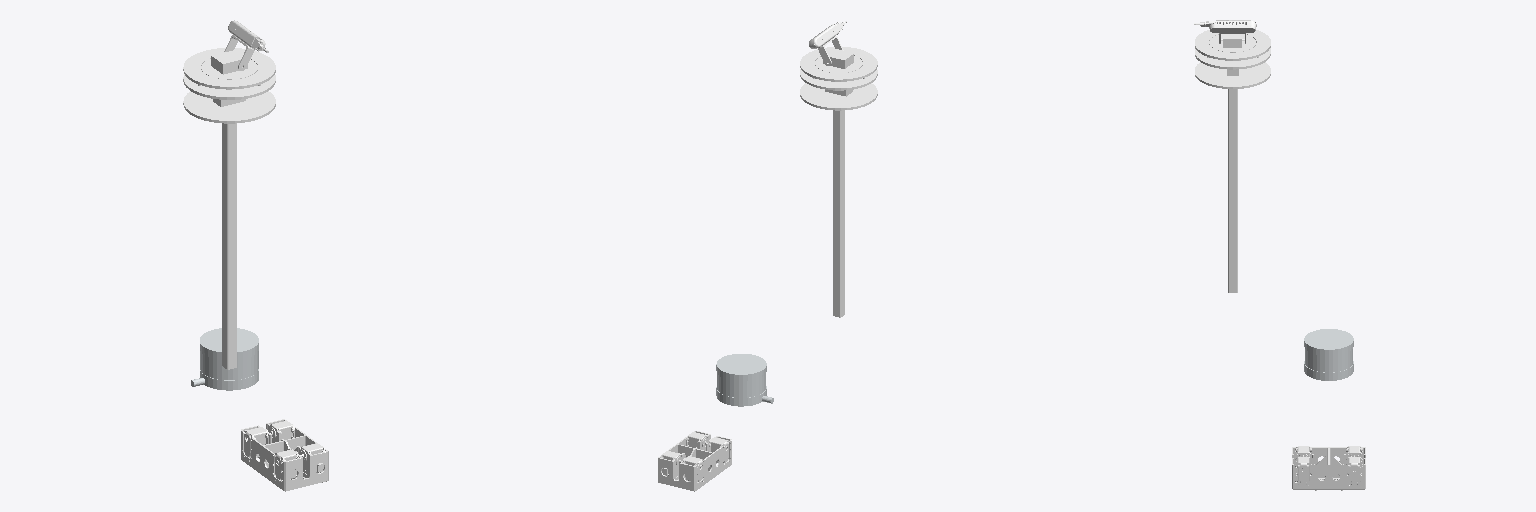
robot.urdf — mobile_platform_controllable_gimbal:
<?xml version="1.0" encoding="utf-8"?>
<!-- This URDF was automatically created by SolidWorks to URDF Exporter! Originally created by [author] ([email redacted])
     Commit Version: 1.6.0-1-g15f4949  Build Version: 1.6.7594.29634
     For more information, please see http://wiki.ros.org/sw_urdf_exporter -->
<robot
  name="mobile_platform_controllable_gimbal">
  <material name="black">
    <color rgba="0.0 0.0 0.0 1.0"/>
  </material>
  <material name="blue">
    <color rgba="0.0 0.0 0.8 1.0"/>
  </material>
  <material name="green">
    <color rgba="0.0 0.8 0.0 1.0"/>
  </material>
  <material name="grey">
    <color rgba="0.2 0.2 0.2 1.0"/>
  </material>
  <material name="orange">
    <color rgba="1.0 0.423529411765 0.0392156862745 1.0"/>
  </material>
  <material name="brown">
    <color rgba="0.870588235294 0.811764705882 0.764705882353 1.0"/>
  </material>
  <material name="red">
    <color rgba="0.8 0.0 0.0 1.0"/>
  </material>
  <material name="white">
    <color rgba="1.0 1.0 1.0 1.0"/>
  </material>
  <material name="Beige">
    <color rgba="1.0 0.784 0.5765 1.0"/>
  </material>
  <link name="root">
    <inertial>
      <mass value="1"/>
      <inertia ixx="0.04" ixy="0.00" ixz="0.00" iyy="0.04" iyz="0.00" izz="0.02"/>
    </inertial>
  </link>
  <link name="mobile_link_1">
  </link>
  <link name="mobile_link_2">
  </link>
  <joint name="root_x_axis_joint" type="prismatic">
    <parent link="root"/>
    <child link="mobile_link_1"/>
    <axis xyz="1 0 0"/>
    <limit lower="-10" upper="10" velocity="0.50"/>
    <dynamics damping="10.0" friction="10"/>
  </joint>
  <joint name="root_y_axis_joint" type="prismatic">
    <parent link="mobile_link_1"/>
    <child link="mobile_link_2"/>
    <axis xyz="0 1 0"/>
    <limit lower="-10" upper="10" velocity="0.50"/>
    <dynamics damping="10.0" friction="10"/>
  </joint>
  <joint name="root_z_rotation_joint" type="continuous">
    <parent link="mobile_link_2"/>
    <child link="base_link"/>
    <axis xyz="0 0 1"/>
    <dynamics damping="10.0" friction="1"/>
  </joint>
  <link
    name="base_link">
    <inertial>
      <origin
        xyz="-0.0341950059245064 -0.000488202669057205 -0.023484876962622"
        rpy="0 0 0" />
      <mass
        value="40.9486107084908" />
      <inertia
        ixx="0.614175745536508"
        ixy="-0.00029161014956335"
        ixz="0.00349696614970323"
        iyy="0.585385929134616"
        iyz="0.00393630741003468"
        izz="1.14116882796746" />
    </inertial>
    <visual>
      <origin
        xyz="0 0 0"
        rpy="0 0 0" />
      <geometry>
        <mesh
          filename="xmate3_description/meshes/base_link.STL" />
      </geometry>
      <material
        name="">
        <color
          rgba="1 1 1 1" />
      </material>
    </visual>
    <collision>
      <origin
        xyz="0 0 0"
        rpy="0 0 0" />
      <geometry>
        <mesh
          filename="xmate3_description/meshes/base_link.STL" />
      </geometry>
    </collision>
  </link>
  <link
    name="velodyne">
    <inertial>
      <origin
        xyz="-0.000287261593383881 -1.71282553980455E-06 -0.00210508552484484"
        rpy="0 0 0" />
      <mass
        value="1.59564547671227" />
      <inertia
        ixx="0.00173425514736997"
        ixy="9.47838989708527E-10"
        ixz="-1.3496082303702E-05"
        iyy="0.00176389158236456"
        iyz="-9.004773487459E-08"
        izz="0.00210570589727052" />
    </inertial>
    <visual>
      <origin
        xyz="0 0 0"
        rpy="0 0 0" />
      <geometry>
        <mesh
          filename="xmate3_description/meshes/velodyne.STL" />
      </geometry>
      <material
        name="">
        <color
          rgba="0.898039215686275 0.917647058823529 0.929411764705882 1" />
      </material>
    </visual>
    <collision>
      <origin
        xyz="0 0 0"
        rpy="0 0 0" />
      <geometry>
        <mesh
          filename="xmate3_description/meshes/velodyne.STL" />
      </geometry>
    </collision>
  </link>
  <joint
    name="velodyne_joint"
    type="fixed">
    <origin
      xyz="-0.11 0 0.2388"
      rpy="0 0 0" />
    <parent
      link="base_link" />
    <child
      link="velodyne" />
    <axis
      xyz="0 0 0" />
  </joint>
  <link
    name="gimbal_base">
    <inertial>
      <origin
        xyz="0 -2.77555756156289E-17 -0.072001781384442"
        rpy="0 0 0" />
      <mass
        value="0.509564966854981" />
      <inertia
        ixx="0.00460691407459133"
        ixy="4.15635367174835E-19"
        ixz="-1.18148517933091E-18"
        iyy="0.00461472657459133"
        iyz="3.67390006628001E-19"
        izz="0.000946833044910318" />
    </inertial>
    <visual>
      <origin
        xyz="0 0 0"
        rpy="0 0 0" />
      <geometry>
        <mesh
          filename="xmate3_description/meshes/gimbal_base.STL" />
      </geometry>
      <material
        name="">
        <color
          rgba="1 1 1 1" />
      </material>
    </visual>
    <collision>
      <origin
        xyz="0 0 0"
        rpy="0 0 0" />
      <geometry>
        <mesh
          filename="xmate3_description/meshes/gimbal_base.STL" />
      </geometry>
    </collision>
  </link>
  <joint
    name="gimbal_base_joint"
    type="fixed">
    <origin
      xyz="-0.225 -0.2 0.83"
      rpy="0 0 0" />
    <parent
      link="base_link" />
    <child
      link="gimbal_base" />
    <axis
      xyz="0 0 0" />
  </joint>
  <link
    name="gimbal_yaw">
    <inertial>
      <origin
        xyz="2.50753308603247E-05 0 0.00389164940243814"
        rpy="0 0 0" />
      <mass
        value="0.0783038684288936" />
      <inertia
        ixx="3.25784849998099E-05"
        ixy="-3.24641951102788E-22"
        ixz="-1.19937183517807E-08"
        iyy="3.5498566498157E-05"
        iyz="-2.46038653698381E-22"
        izz="5.90679201142496E-05" />
    </inertial>
    <visual>
      <origin
        xyz="0 0 0"
        rpy="0 0 0" />
      <geometry>
        <mesh
          filename="xmate3_description/meshes/gimbal_yaw.STL" />
      </geometry>
      <material
        name="">
        <color
          rgba="1 1 1 1" />
      </material>
    </visual>
    <collision>
      <origin
        xyz="0 0 0"
        rpy="0 0 0" />
      <geometry>
        <mesh
          filename="xmate3_description/meshes/gimbal_yaw.STL" />
      </geometry>
    </collision>
  </link>
  <joint
    name="gimbal_yaw_joint"
    type="fixed">
    <origin
      xyz="0 0 0.07"
      rpy="0 0 0" />
    <parent
      link="gimbal_base" />
    <child
      link="gimbal_yaw" />
    <axis
      xyz="0 0 1" />
  </joint>
  <link
    name="gimbal_pitch">
    <inertial>
      <origin
        xyz="0.0230991288595745 -2.77555756156289E-17 0"
        rpy="0 0 0" />
      <mass
        value="0.00629053213386462" />
      <inertia
        ixx="3.42802231918139E-06"
        ixy="2.36055740704576E-21"
        ixz="-8.87662821812963E-23"
        iyy="1.30341273174401E-06"
        iyz="8.73092983177933E-23"
        izz="4.4594233809342E-06" />
    </inertial>
    <visual>
      <origin
        xyz="0 0 0"
        rpy="0 0 0" />
      <geometry>
        <mesh
          filename="xmate3_description/meshes/gimbal_pitch.STL" />
      </geometry>
      <material
        name="">
        <color
          rgba="1 1 1 1" />
      </material>
    </visual>
    <collision>
      <origin
        xyz="0 0 0"
        rpy="0 0 0" />
      <geometry>
        <mesh
          filename="xmate3_description/meshes/gimbal_pitch.STL" />
      </geometry>
    </collision>
  </link>
  <joint
    name="gimbal_pitch_joint"
    type="fixed">
    <origin
      xyz="0.01 0 0.01"
      rpy="0 -1.0472 0" />
    <parent
      link="gimbal_yaw" />
    <child
      link="gimbal_pitch" />
    <axis
      xyz="0 1 0" />
  </joint>
  <link
    name="realsense">
    <inertial>
      <origin
        xyz="-0.00148582713460665 -0.00537331155862492 0.0114430980390411"
        rpy="0 0 0" />
      <mass
        value="0.0346937941885999" />
      <inertia
        ixx="2.24677046023847E-05"
        ixy="2.74694997947627E-07"
        ixz="7.68563645568261E-11"
        iyy="1.45075356803183E-06"
        iyz="1.67781904213168E-09"
        izz="2.14371832325338E-05" />
    </inertial>
    <visual>
      <origin
        xyz="0 0 0"
        rpy="0 0 0" />
      <geometry>
        <mesh
          filename="xmate3_description/meshes/realsense.STL" />
      </geometry>
      <material
        name="">
        <color
          rgba="1 1 1 1" />
      </material>
    </visual>
    <collision>
      <origin
        xyz="0 0 0"
        rpy="0 0 0" />
      <geometry>
        <mesh
          filename="xmate3_description/meshes/realsense.STL" />
      </geometry>
    </collision>
  </link>
  <joint
    name="realsense_joint"
    type="fixed">
    <origin
      xyz="0.037 0 0"
      rpy="0 1.5708 0" />
    <parent
      link="gimbal_pitch" />
    <child
      link="realsense" />
    <axis
      xyz="0 0 0" />
  </joint>
  
</robot>

--- Facts derived from the render (not from the file) ---
The picture shows the robot from 3 angles, left to right: view 1: azimuth 30°, elevation 25°; view 2: azimuth 150°, elevation 25°; view 3: azimuth 270°, elevation 25°; orthographic projection.
Model mobile_platform_controllable_gimbal with 9 links and 8 joints (1 continuous, 2 prismatic, 5 fixed), rooted at root, posed all joints at 0.
Links seen in each view (by area): view 1: gimbal_base, base_link, velodyne, gimbal_yaw, realsense; view 2: gimbal_base, base_link, velodyne, gimbal_yaw; view 3: gimbal_base, base_link, velodyne, gimbal_yaw, realsense.
Link boxes in pixels (x1,y1,x2,y2): gimbal_base: (183, 48, 275, 369); base_link: (241, 419, 328, 491); velodyne: (191, 328, 258, 390); gimbal_yaw: (201, 50, 257, 79); realsense: (228, 20, 268, 52); gimbal_base: (800, 47, 877, 317); base_link: (658, 431, 731, 491); velodyne: (716, 354, 773, 406); gimbal_yaw: (815, 48, 862, 72); gimbal_base: (1195, 30, 1270, 292); base_link: (1292, 446, 1365, 490); velodyne: (1304, 329, 1353, 380); gimbal_yaw: (1209, 34, 1255, 52); realsense: (1194, 20, 1256, 32).
Bounding box of the posed robot: 0.3507 × 0.358 × 0.9819 m (x, y, z).
Meshes: 6 distinct files referenced, 6 mesh visuals loaded (6 binary STL).